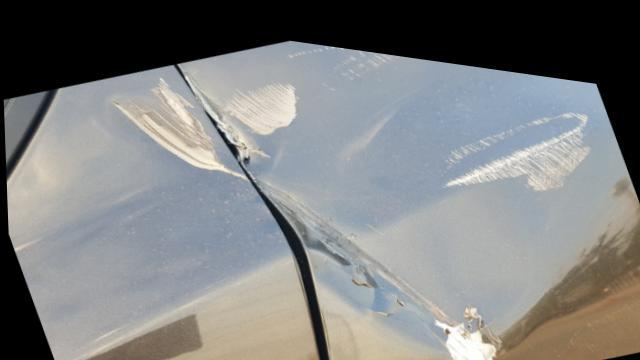dent: (174, 32, 640, 360)
scratch: (109, 69, 250, 173)
